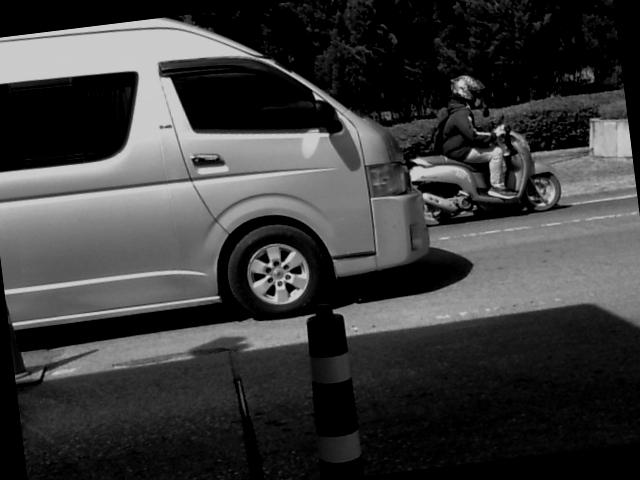helmet: (450, 74, 484, 107)
motor: (409, 122, 559, 225)
person: (434, 74, 514, 199)
